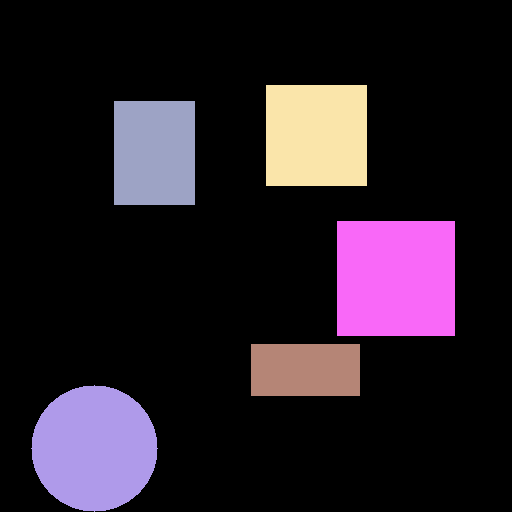circle: (31, 385, 157, 511)
rectangle: (114, 101, 194, 204), (251, 344, 359, 395)
square: (337, 221, 454, 335), (266, 85, 366, 185)
